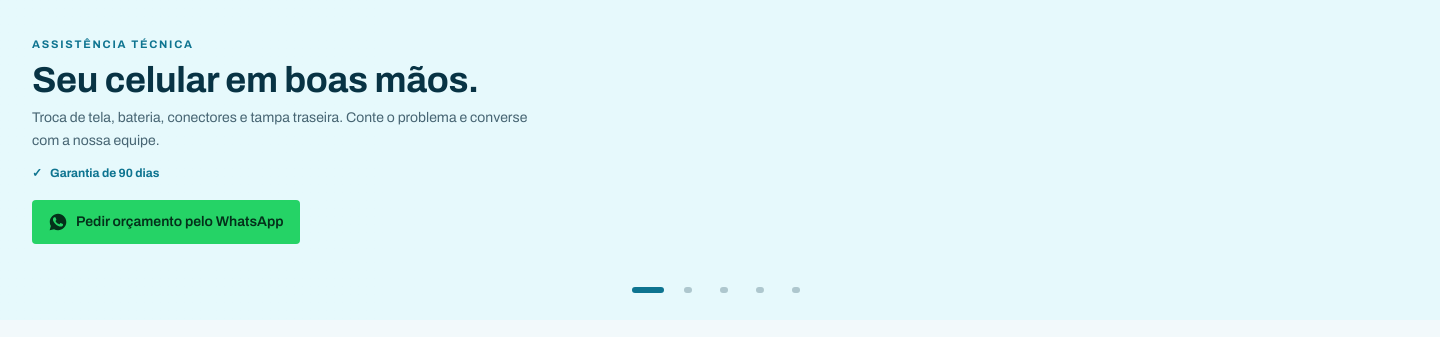
Test: carrossel de assistência › navega pelas setas e indicadores, incluindo o retorno ao início
The width and height of the screenshot is (1440, 337).
Click the button named "Ver banner: Conector de carga e fone" at coordinates (760, 290), box [744, 268, 776, 312]
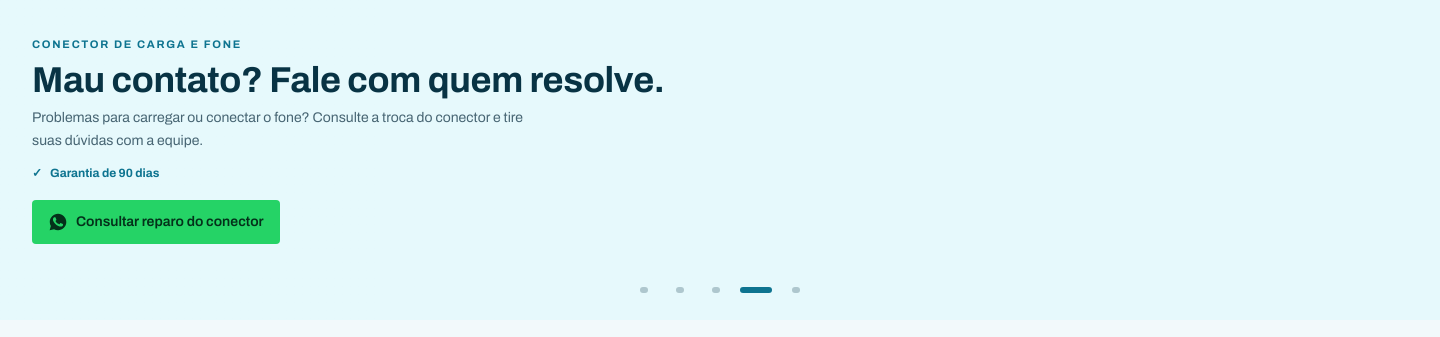
Now the heading reads "Mau contato? Fale com quem resolve.", box [32, 60, 665, 100]
Click the button named "Ver banner: Assistência técnica" at coordinates (644, 290), box [628, 268, 660, 312]
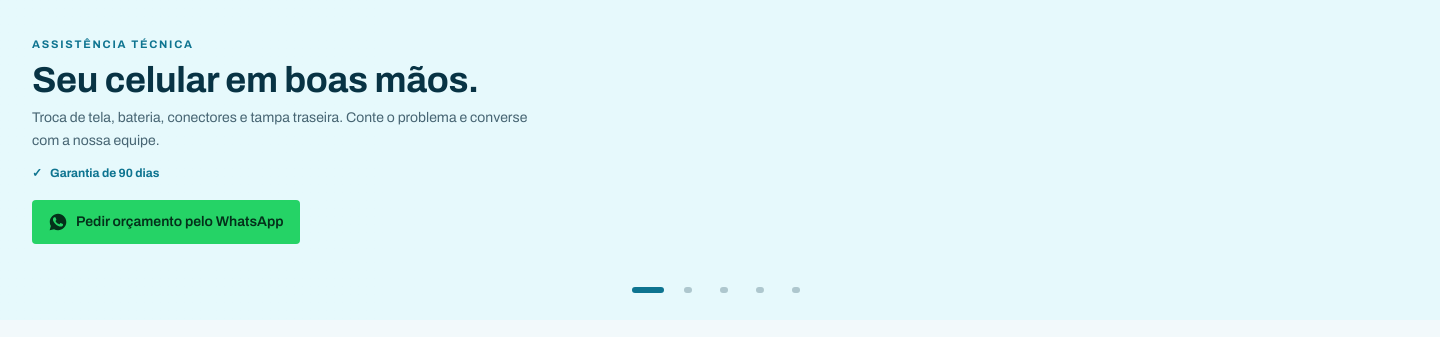
Now the heading reads "Seu celular em boas mãos.", box [32, 60, 479, 100]
Click the button named "Ver banner: Troca de bateria" at coordinates (724, 290), box [708, 268, 740, 312]
Wait 7000 ms
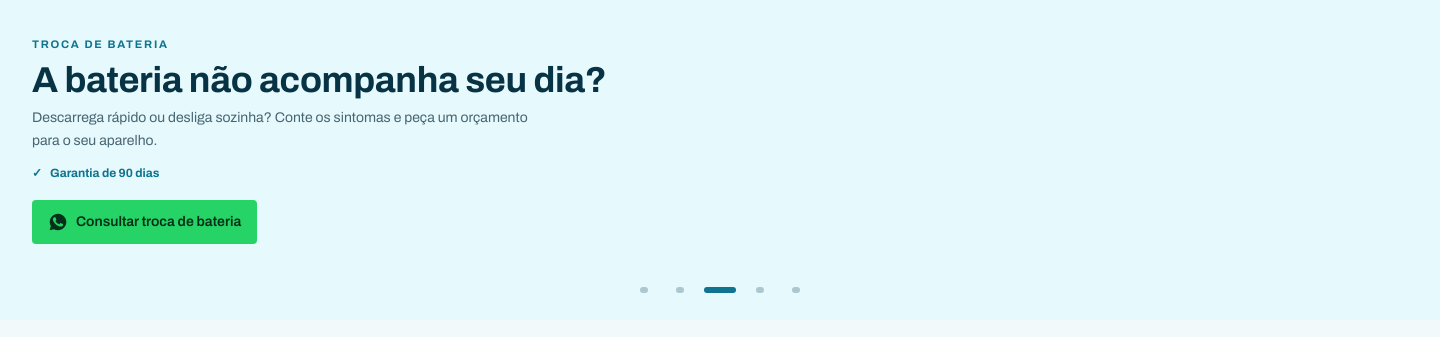
Now the heading reads "A bateria não acompanha seu dia?", box [32, 60, 606, 100]
